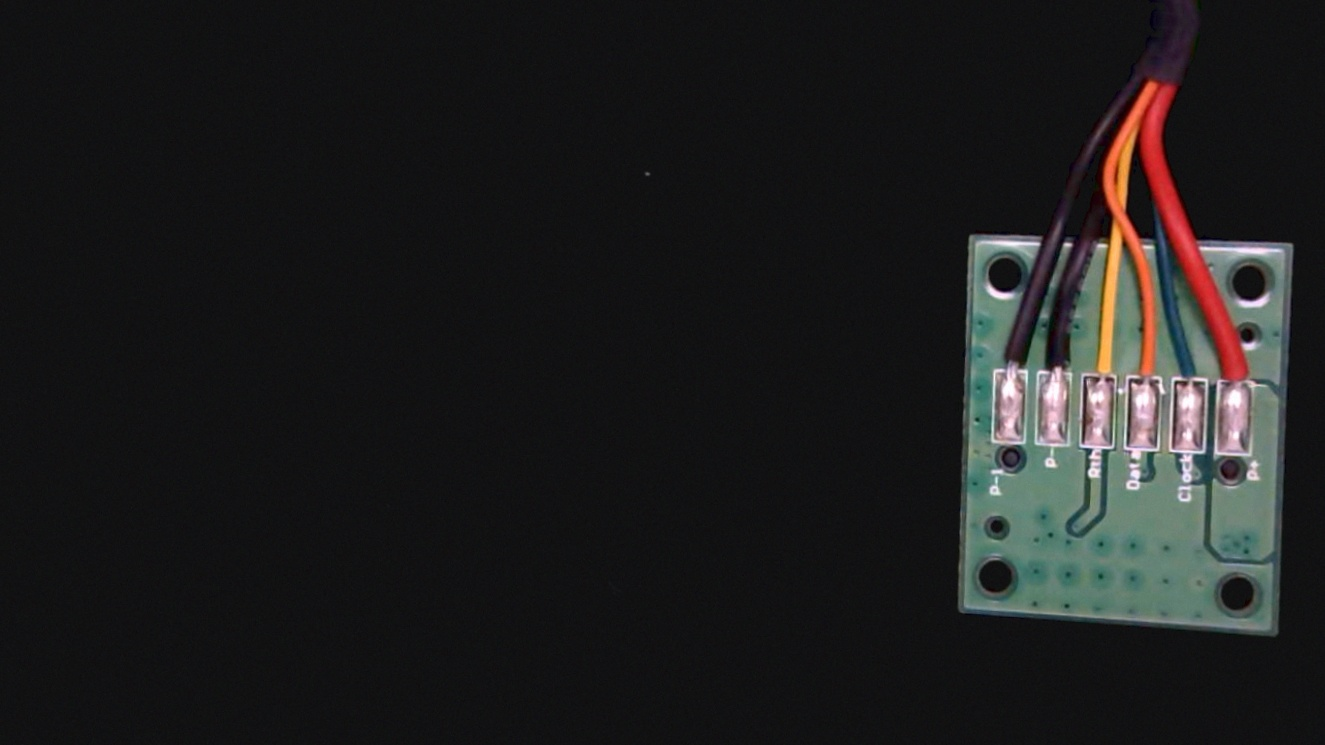Black: (1039, 316, 1078, 396)
Black1: (988, 313, 1030, 393)
Green: (1169, 324, 1214, 403)
Orange: (1125, 314, 1168, 400)
Red: (1216, 323, 1261, 407)
Yellow: (1081, 313, 1126, 401)
